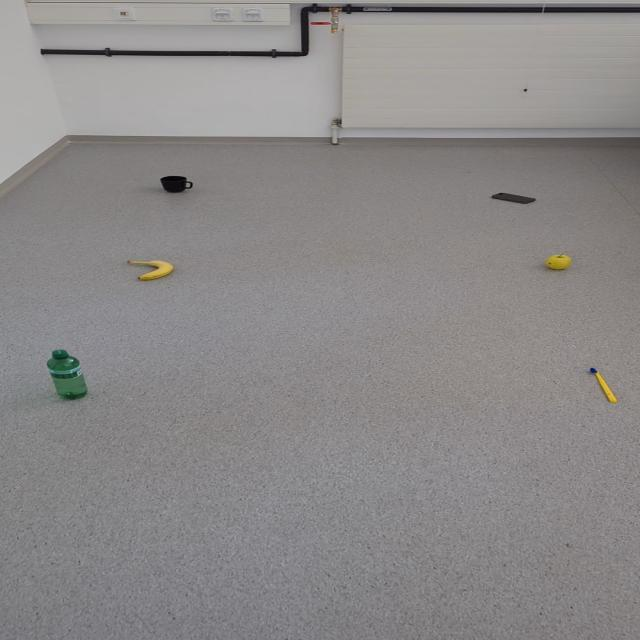apple: (545, 253, 571, 270)
banana: (125, 259, 173, 280)
bottle: (46, 349, 88, 400)
mug: (160, 175, 192, 192)
phone: (491, 192, 537, 205)
toothbrush: (588, 367, 618, 403)
